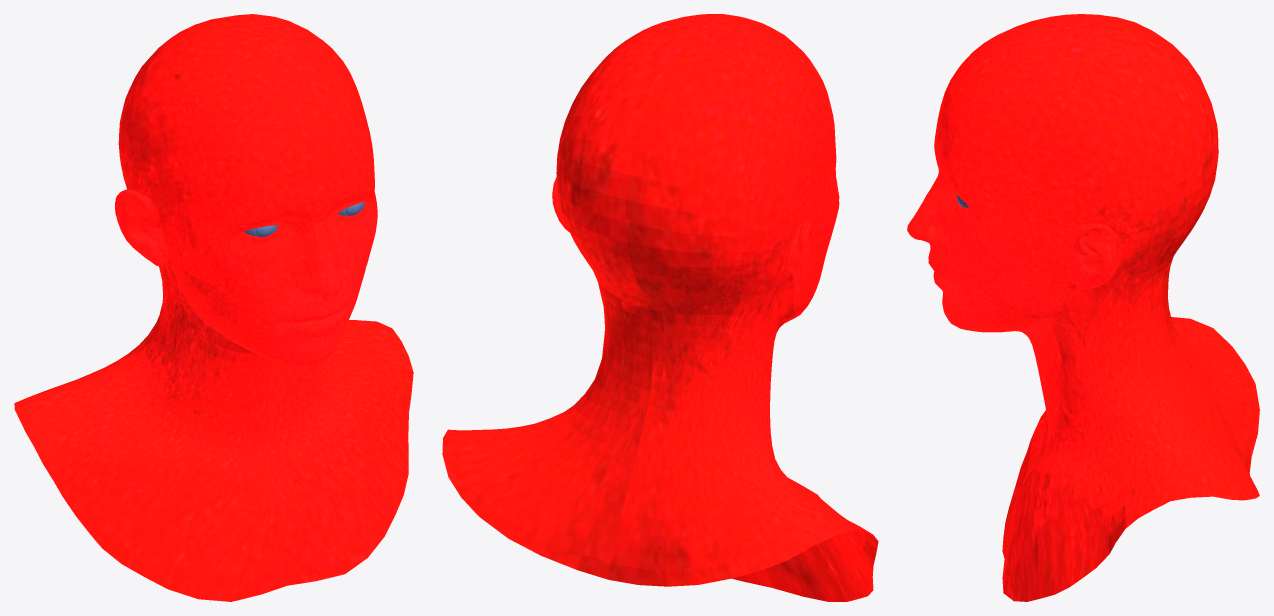
File: head.gltf
3 views of the same model, side by side, from view 1: azimuth 30°, elevation 25°; view 2: azimuth 150°, elevation 25°; view 3: azimuth 270°, elevation 25° (orthographic). The views are drawn at different scales.
Parts seen in each view (by area): view 1: Head_female.001; view 2: Head_female.001; view 3: Head_female.001.
Part boxes in pixels (x1,y1,x2,y2): Head_female.001: [14, 14, 413, 601]; Head_female.001: [442, 14, 878, 601]; Head_female.001: [907, 14, 1259, 601].
Size of the model in its own units: 0.2836 by 0.3832 by 0.2277.
